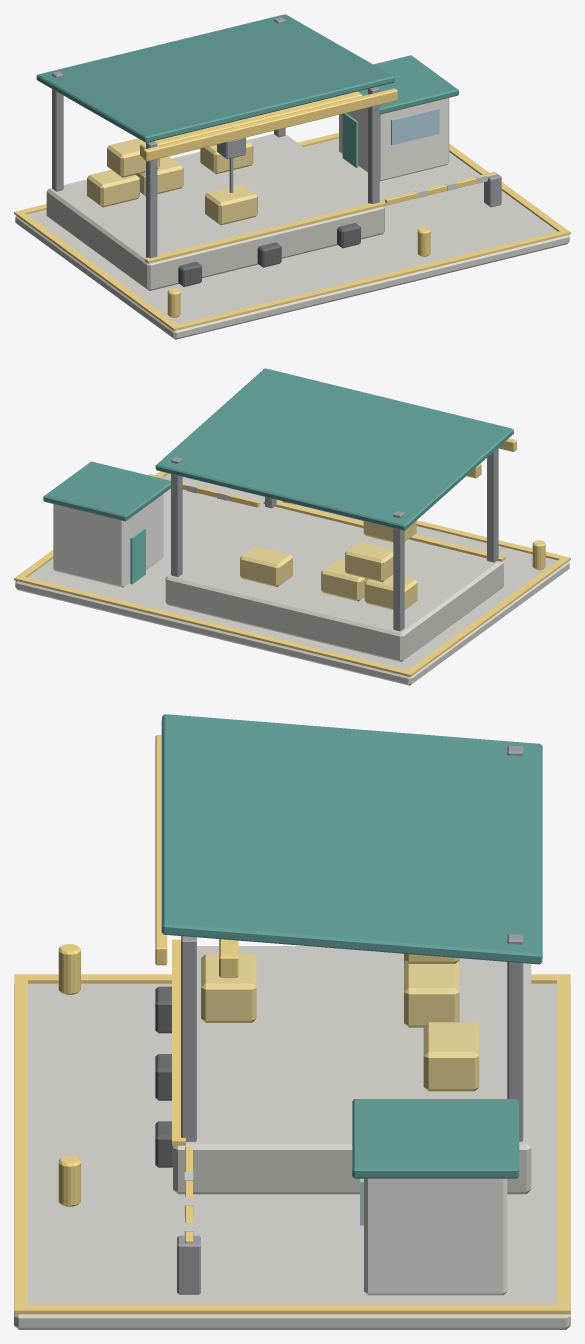
File: TruckTerminal.fbx
3 renders of one model, top to bottom at view 1: azimuth 30°, elevation 25°; view 2: azimuth 150°, elevation 25°; view 3: azimuth 270°, elevation 25°, orthographic. The views are drawn at different scales.
Parts seen in each view (by area): view 1: TT_Base, TT_Canopy, TT_Dock, TT_Booth, TT_CanopyTrim, TT_BoothRoof, TT_EdgeS, TT_DockEdge, TT_HoistBale, TT_DockBale1, TT_EdgeW, TT_GantryBeam (+16 smaller); view 2: TT_Canopy, TT_Dock, TT_Base, TT_Booth, TT_BoothRoof, TT_EdgeN, TT_DockBale4, TT_DockBale3, TT_EdgeW, TT_Post1, TT_Post4, TT_Post2 (+7 smaller); view 3: TT_Base, TT_Canopy, TT_Dock, TT_Booth, TT_BoothRoof, TT_EdgeE, TT_EdgeN, TT_EdgeS, TT_DockBale4, TT_DockBale2, TT_HoistBale, TT_Post3 (+11 smaller).
Boxes of the visible parts, x1,y1,x2,y2 form: TT_Base: (15, 138, 569, 339); TT_Canopy: (36, 14, 394, 142); TT_Dock: (46, 134, 384, 290); TT_Booth: (339, 98, 449, 181); TT_CanopyTrim: (143, 88, 397, 161); TT_BoothRoof: (358, 55, 458, 114); TT_EdgeS: (170, 229, 570, 331); TT_DockEdge: (144, 200, 386, 263); TT_HoistBale: (205, 184, 257, 225); TT_DockBale1: (87, 169, 139, 207); TT_EdgeW: (18, 213, 176, 327); TT_GantryBeam: (140, 91, 362, 157); TT_Canopy: (155, 368, 513, 530); TT_Dock: (165, 505, 503, 661); TT_Base: (15, 473, 569, 685); TT_Booth: (53, 494, 163, 587); TT_BoothRoof: (43, 461, 170, 521); TT_EdgeN: (14, 575, 414, 676); TT_DockBale4: (240, 546, 292, 587); TT_DockBale3: (345, 541, 393, 582); TT_EdgeW: (408, 559, 566, 673); TT_Post1: (487, 447, 498, 562); TT_Post4: (171, 457, 182, 576); TT_Post2: (393, 511, 404, 631); TT_Base: (14, 983, 570, 1329); TT_Canopy: (161, 714, 542, 964); TT_Dock: (173, 946, 531, 1194); TT_Booth: (364, 1178, 507, 1295); TT_BoothRoof: (352, 1099, 519, 1178); TT_EdgeE: (28, 1304, 556, 1314); TT_EdgeN: (557, 974, 570, 1314); TT_EdgeS: (14, 974, 27, 1314); TT_DockBale4: (423, 1022, 479, 1091); TT_DockBale2: (404, 961, 459, 1027); TT_HoistBale: (201, 953, 256, 1022); TT_Post3: (181, 936, 196, 1141).
Size of the model in its own units: 20 by 8.16 by 14.
